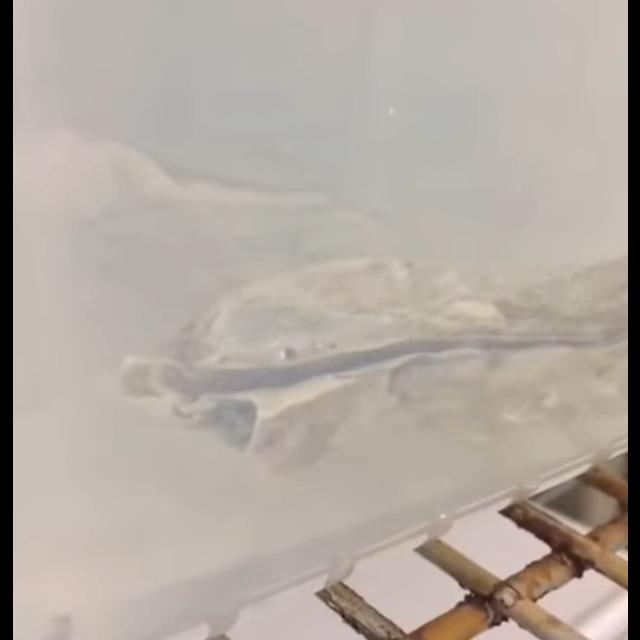Oyster-Indeterminate: (49, 128, 335, 242)
Oyster-Open: (104, 254, 628, 476)
